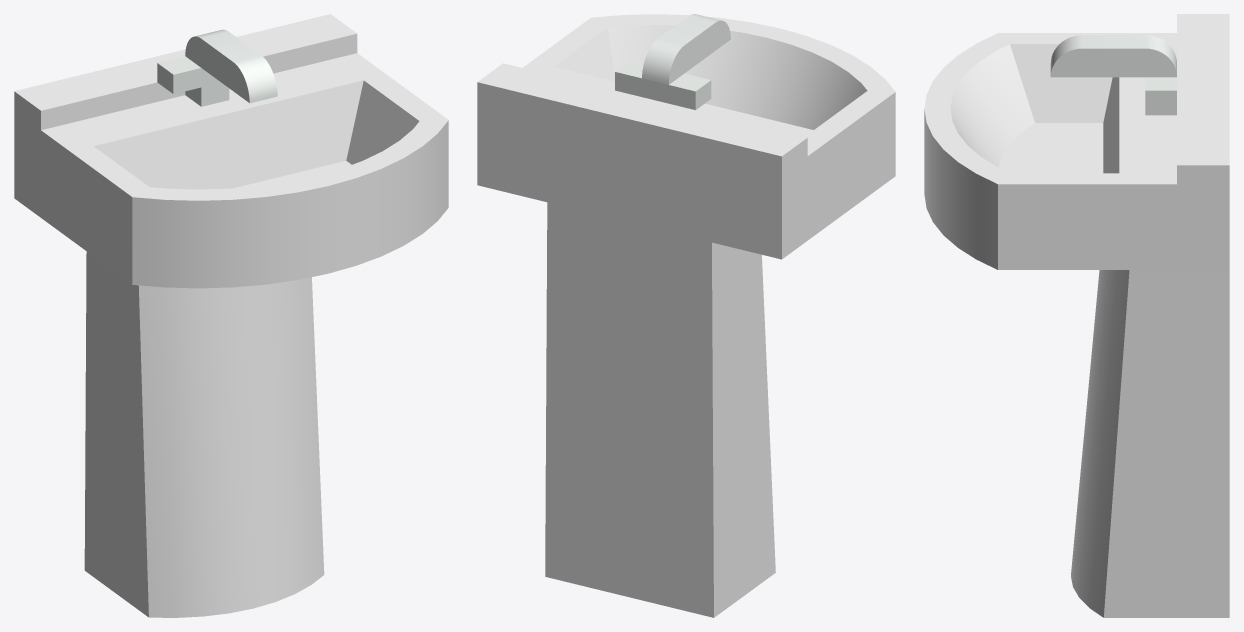
Rendered from bathroomSink.glb.
The picture shows the model from 3 angles, left to right: view 1: azimuth 30°, elevation 25°; view 2: azimuth 150°, elevation 25°; view 3: azimuth 270°, elevation 25°; orthographic projection. The views are drawn at different scales.
Visible parts, largest first — view 1: bathroomSink(Clone); view 2: bathroomSink(Clone); view 3: bathroomSink(Clone).
Boxes of the visible parts, x1,y1,x2,y2 form: bathroomSink(Clone): [14, 14, 448, 617]; bathroomSink(Clone): [477, 14, 895, 617]; bathroomSink(Clone): [924, 14, 1229, 617].
Bounding box in the file's own units: 0.6902 × 1.14 × 0.5887.
3 materials, 3 textured.
